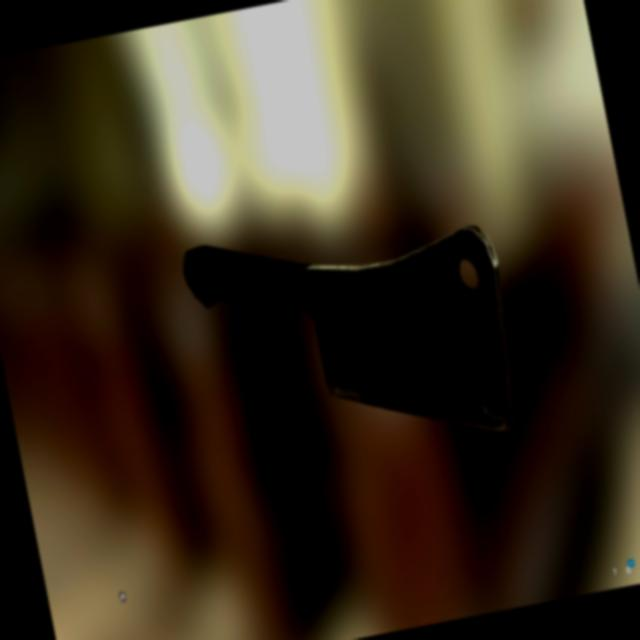cleaver: (183, 196, 525, 483)
